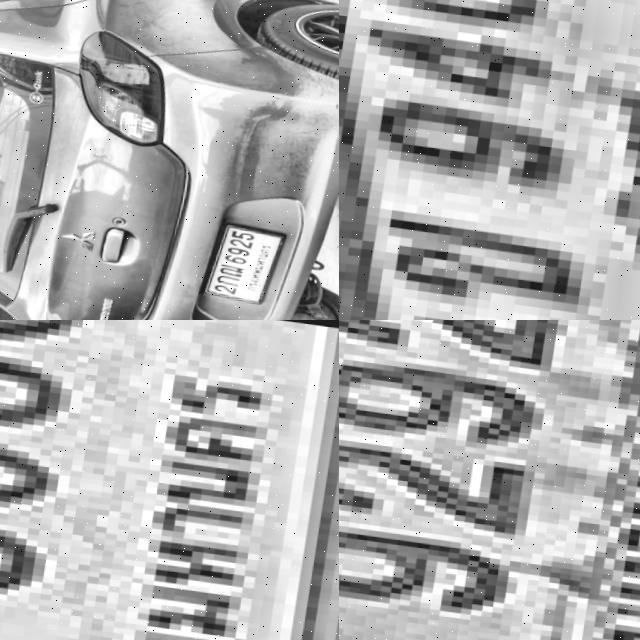license-plate: (0, 320, 339, 640), (339, 0, 640, 320), (339, 320, 640, 640), (204, 213, 297, 305)
